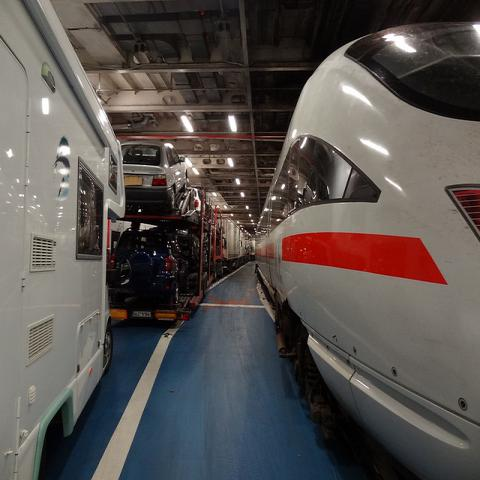car: (108, 227, 190, 308), (123, 142, 188, 214), (188, 188, 201, 216)
truck: (0, 0, 127, 480), (222, 216, 246, 272)
